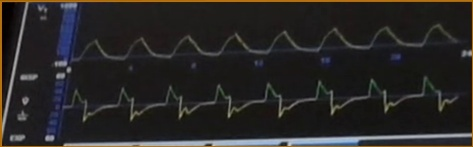Premature_cycling Flow: (67, 75, 461, 131)
Premature_cycling Volume: (77, 14, 457, 64)
